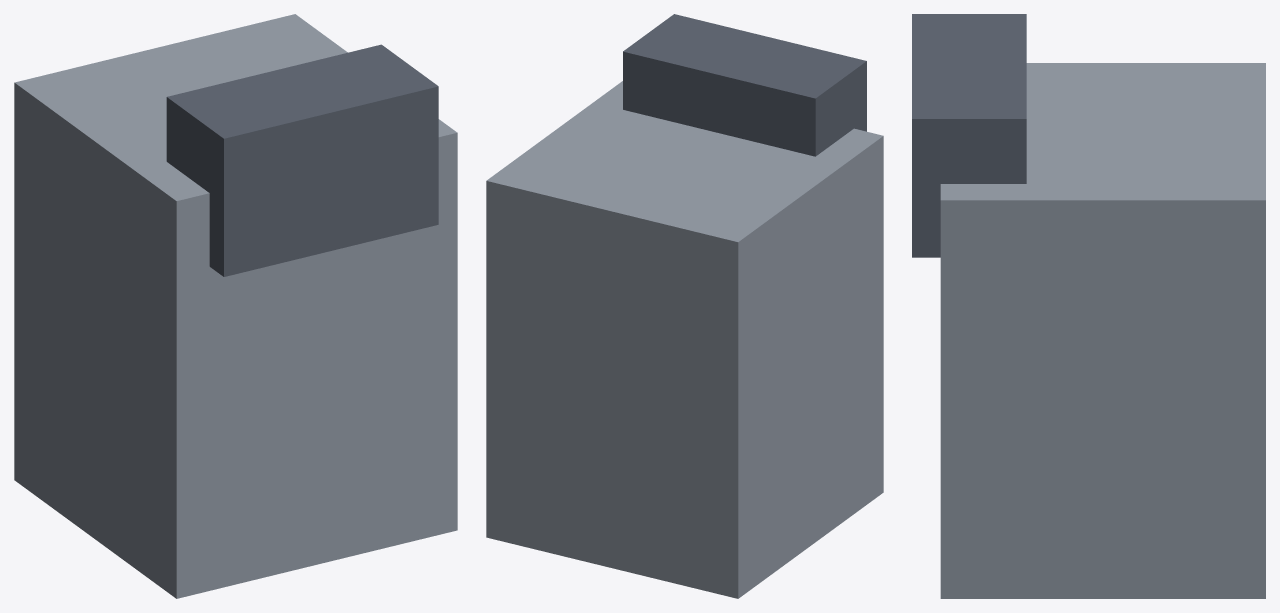
The model's file is procedural_arm_right_lower.glb.
The picture shows the model from 3 angles, left to right: view 1: azimuth 30°, elevation 25°; view 2: azimuth 150°, elevation 25°; view 3: azimuth 270°, elevation 25°; orthographic projection. The views are drawn at different scales.
Visible parts, largest first — view 1: ForearmGuard.001, ElbowCap.001; view 2: ForearmGuard.001, ElbowCap.001; view 3: ForearmGuard.001, ElbowCap.001.
Boxes of the visible parts, box(x1,y1,x2,y2) form: ForearmGuard.001: box(14, 14, 457, 598); ElbowCap.001: box(166, 44, 438, 276); ForearmGuard.001: box(486, 81, 883, 598); ElbowCap.001: box(623, 14, 866, 156); ForearmGuard.001: box(940, 63, 1265, 598); ElbowCap.001: box(912, 14, 1026, 257).
Size of the model in its own units: 0.34 by 0.56 by 0.37.
